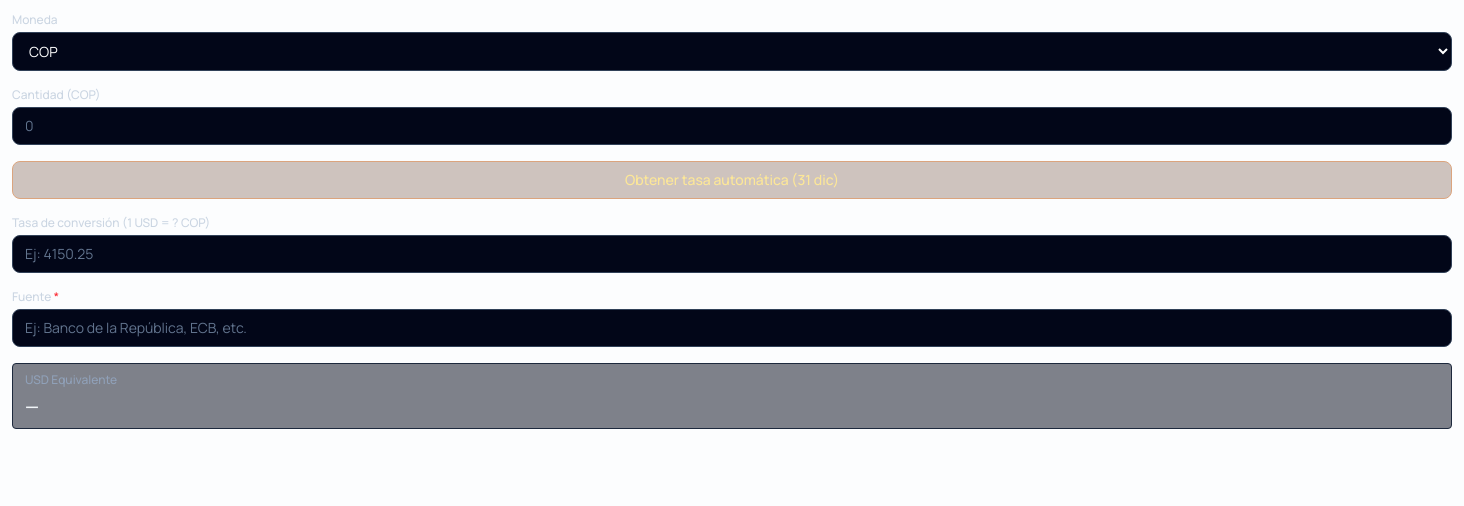
it: FxSubForm Component › USD calculation › calculates USD equivalent correctly
Type "1000" into the number field labelled "Cantidad (COP)" at (732, 126), box left=12, top=107, right=1452, bottom=145
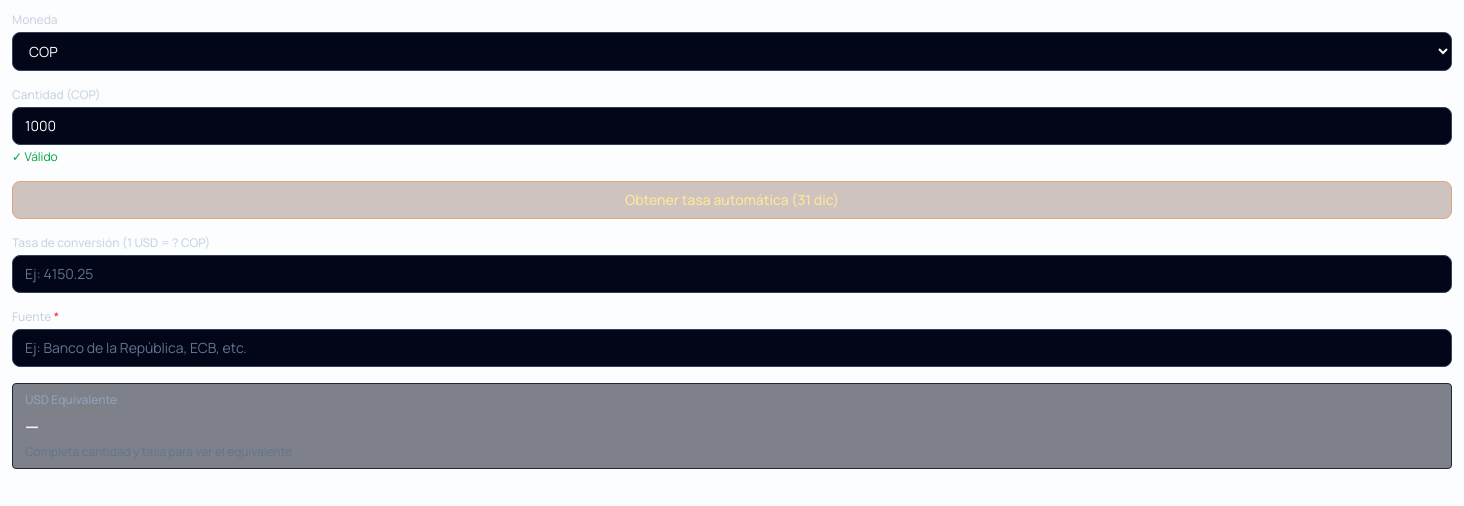
Type "4150" into the number field labelled "Tasa de conversión (1 USD = ? COP)" at (732, 274), box left=12, top=255, right=1452, bottom=293
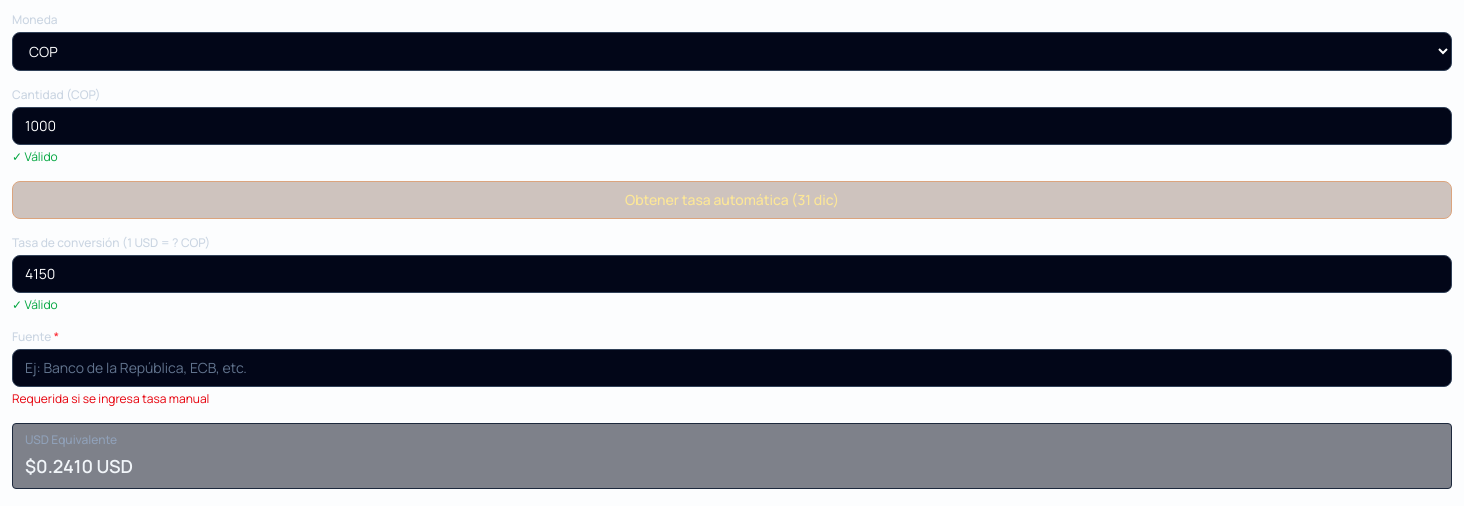
Now the text "$0.2410 USD" is shown, box left=25, top=454, right=133, bottom=478
